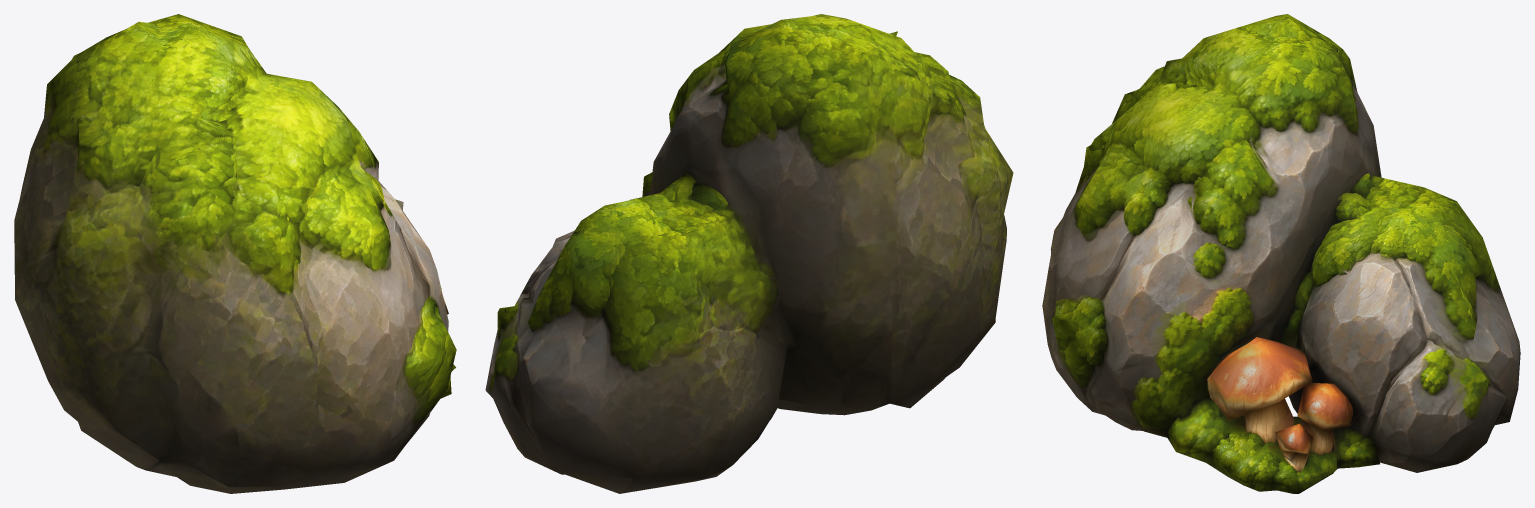
The model's file is W_Boulder_B_raw.glb.
3 renders of one model, left to right at view 1: azimuth 30°, elevation 25°; view 2: azimuth 150°, elevation 25°; view 3: azimuth 270°, elevation 25°, orthographic. The views are drawn at different scales.
Visible parts, largest first — view 1: tripo_node_5c83a4ee-6259-47f4-9d37-25ad62f7c970; view 2: tripo_node_5c83a4ee-6259-47f4-9d37-25ad62f7c970; view 3: tripo_node_5c83a4ee-6259-47f4-9d37-25ad62f7c970.
Part boxes in pixels (x1=…): tripo_node_5c83a4ee-6259-47f4-9d37-25ad62f7c970: x1=14, y1=14, x2=456, y2=493; tripo_node_5c83a4ee-6259-47f4-9d37-25ad62f7c970: x1=485, y1=14, x2=1013, y2=493; tripo_node_5c83a4ee-6259-47f4-9d37-25ad62f7c970: x1=1042, y1=14, x2=1520, y2=493.
Size of the model in its own units: 0.8692 by 0.829 by 1.
1 material, 1 textured.
